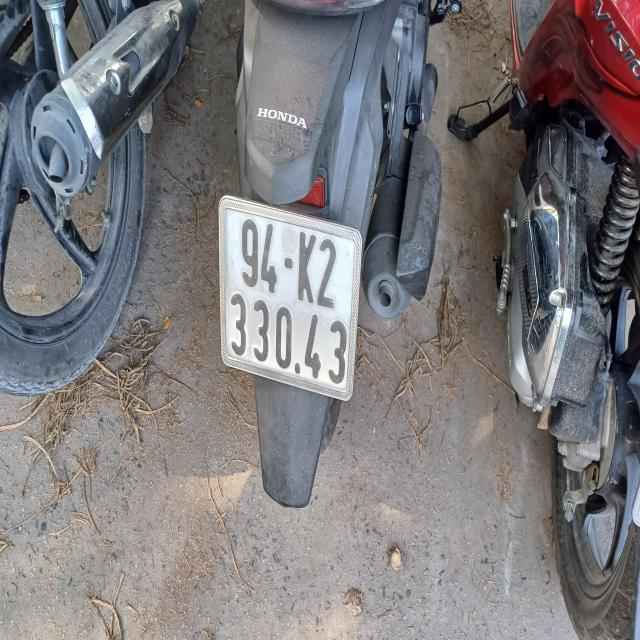0: (276, 306, 293, 372)
2: (316, 238, 336, 311)
3: (326, 320, 346, 384), (250, 299, 270, 361), (230, 292, 247, 358)
4: (304, 312, 322, 379), (261, 224, 278, 294)
K: (296, 230, 316, 306)
